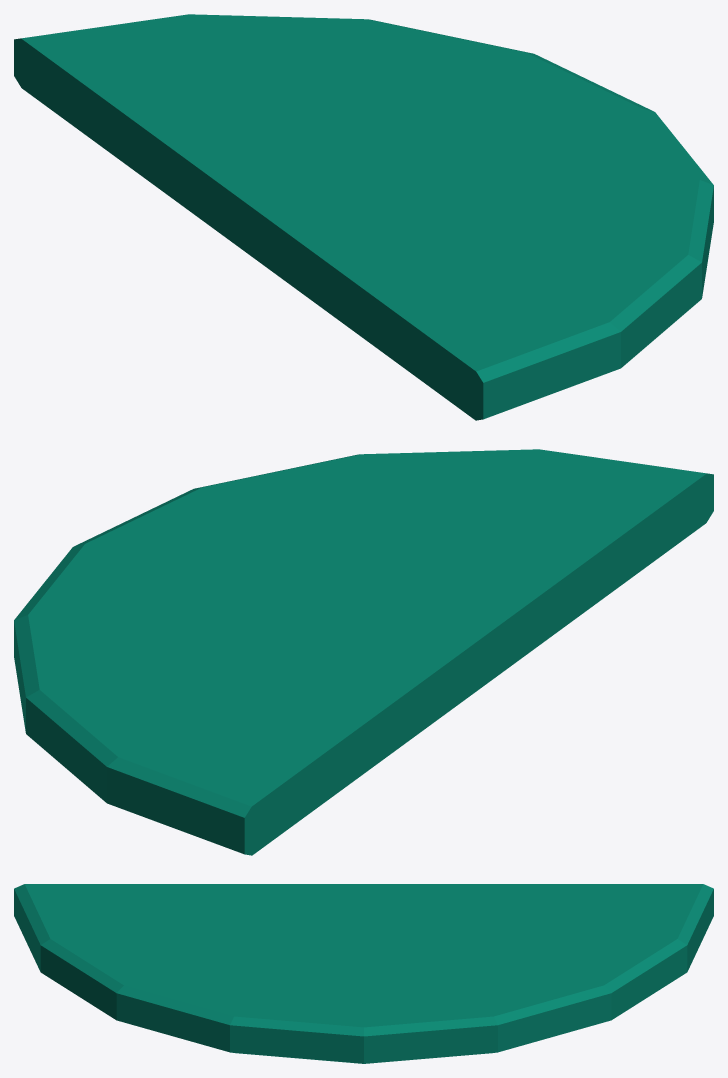
Rendered from missile_door_b.obj.
The picture shows the model from 3 angles, top to bottom: view 1: azimuth 30°, elevation 25°; view 2: azimuth 150°, elevation 25°; view 3: azimuth 270°, elevation 25°; orthographic projection. The views are drawn at different scales.
Parts seen in each view (by area): view 1: Object001; view 2: Object001; view 3: Object001.
Boxes of the visible parts, box(x1,y1,x2,y2) form: Object001: box(14, 14, 713, 420); Object001: box(14, 449, 713, 855); Object001: box(14, 884, 713, 1063).
Size of the model in its own units: 12.92 by 1.5 by 25.84.
